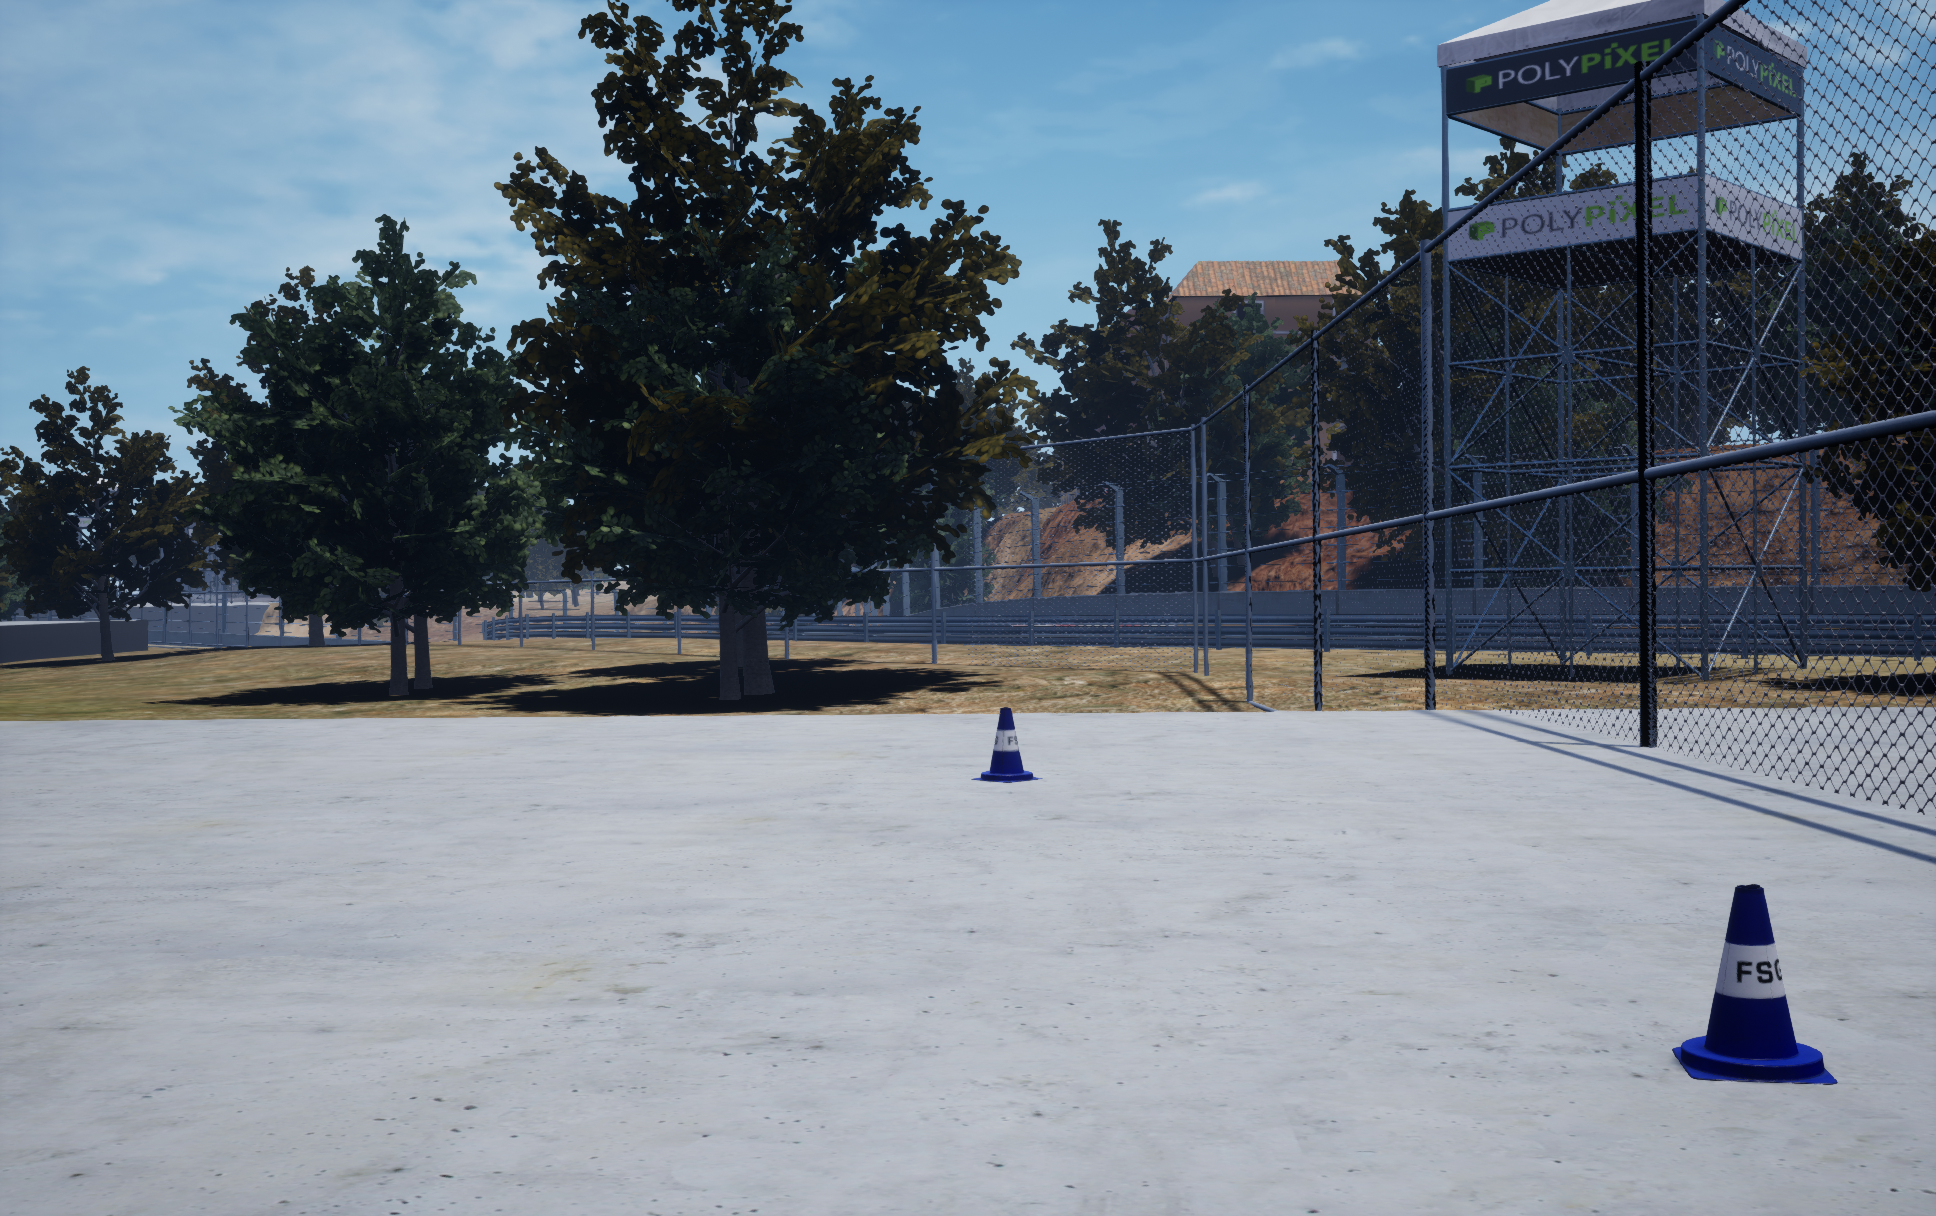yellow: (1673, 884, 1837, 1084), (971, 707, 1042, 782)
